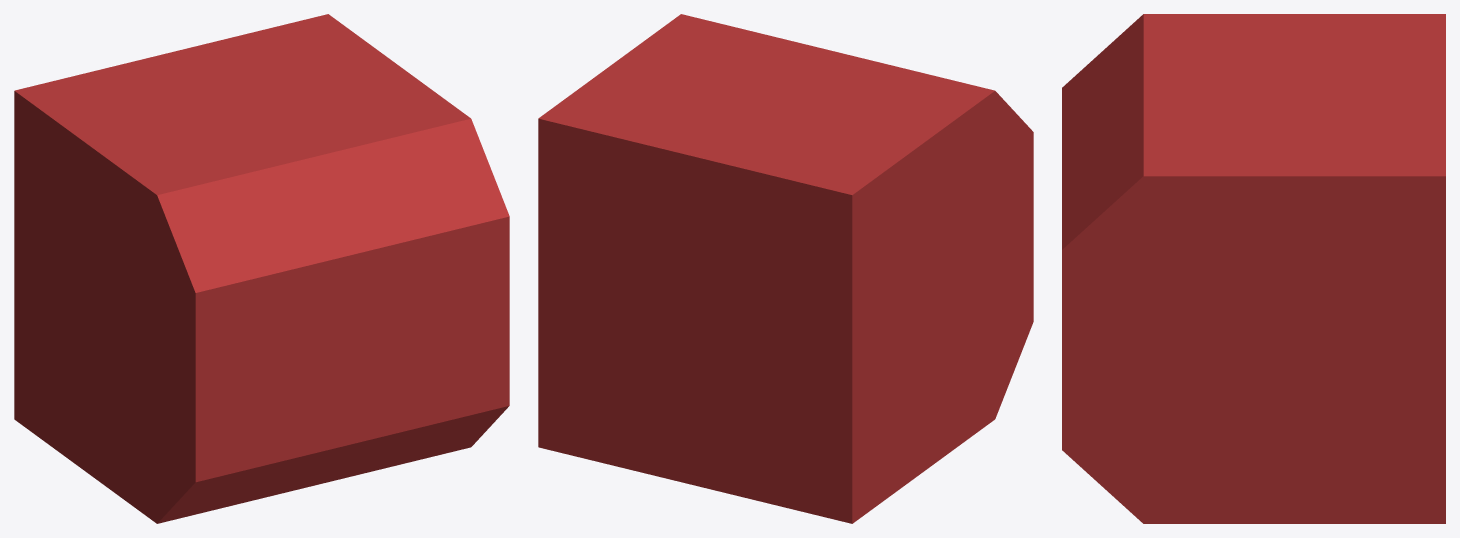
File: red_glove.glb
3 renders of one model, left to right at view 1: azimuth 30°, elevation 25°; view 2: azimuth 150°, elevation 25°; view 3: azimuth 270°, elevation 25°, orthographic. The views are drawn at different scales.
Parts seen in each view (by area): view 1: Cube; view 2: Cube; view 3: Cube.
Part boxes in pixels (bbox=[...]): Cube: bbox=[14, 14, 509, 523]; Cube: bbox=[538, 14, 1033, 523]; Cube: bbox=[1062, 14, 1445, 523].
Bounding box in the file's own units: 0.2989 × 0.2989 × 0.2989.
Materials: 1 (1 with a texture image).
